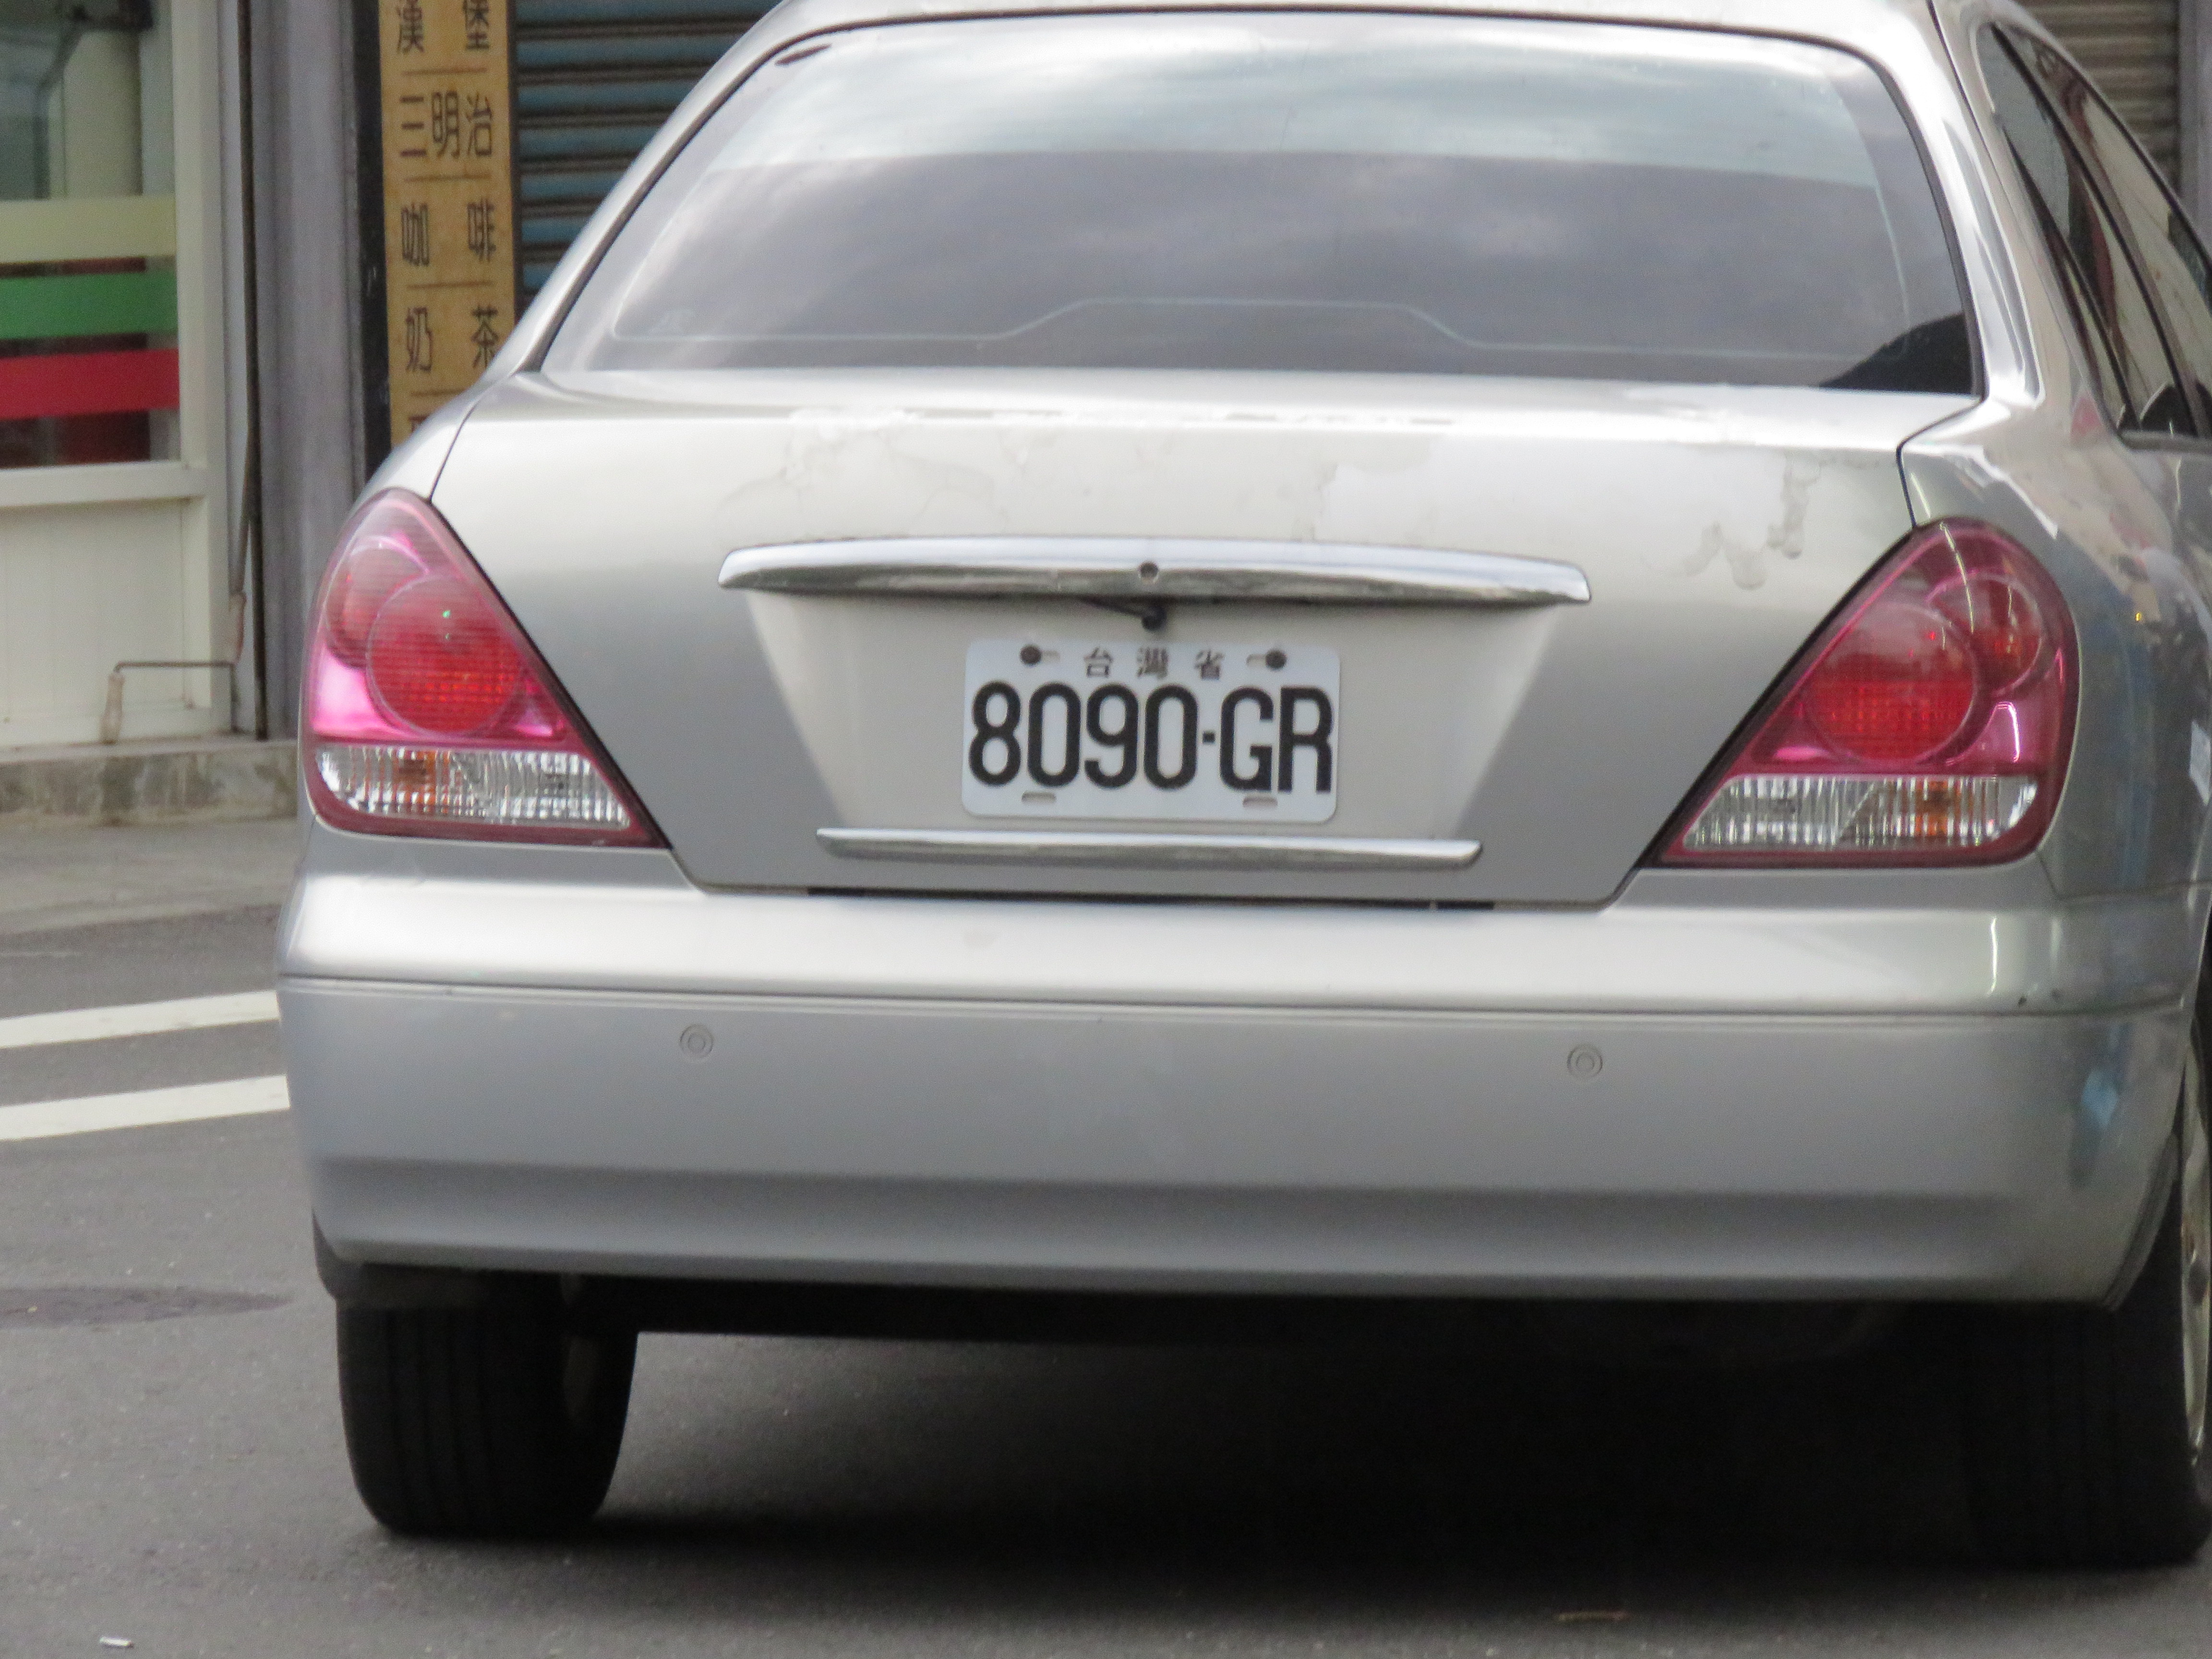car: (280, 0, 2210, 1535)
car_card: (960, 638, 1332, 823)
